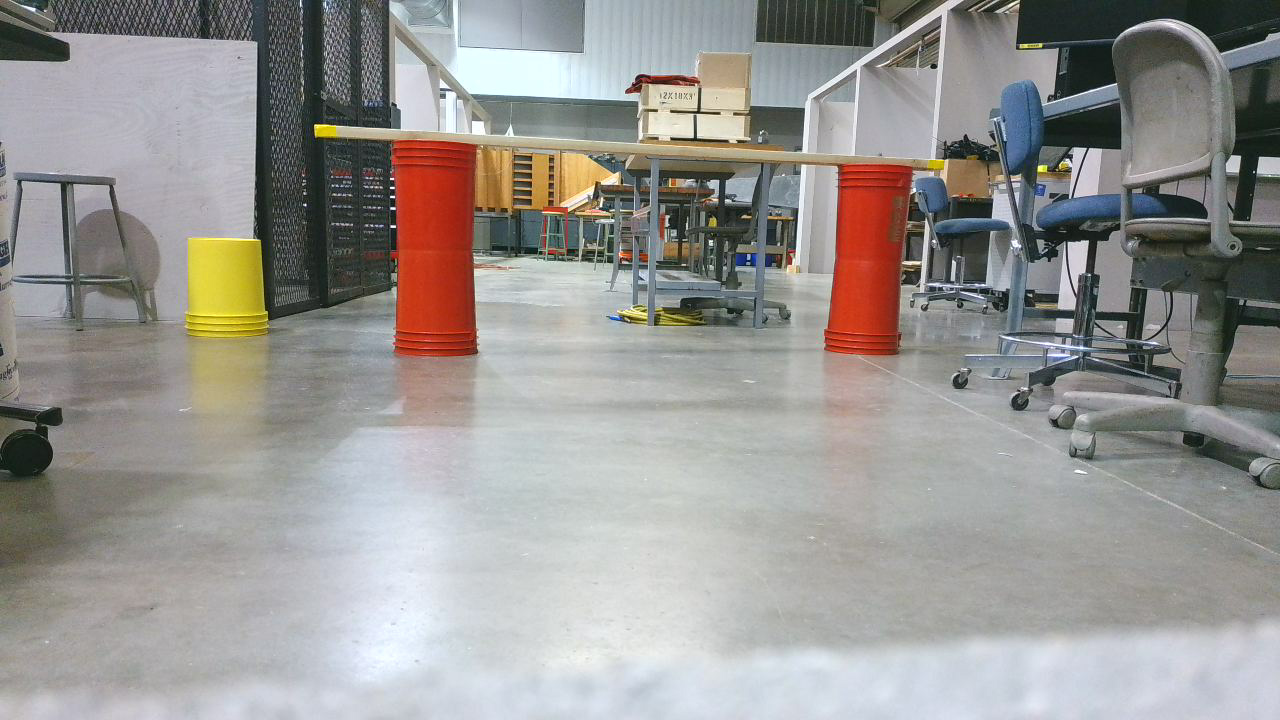red_bucket_arch: (315, 122, 961, 366)
yellow_bucket: (191, 239, 276, 347)
